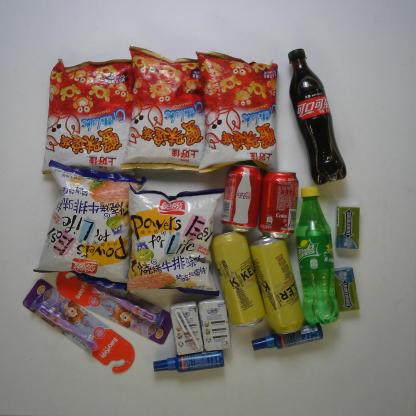Alcohol: (250, 226, 305, 336), (211, 227, 265, 330)
Drink: (288, 47, 348, 185), (296, 183, 339, 326), (219, 162, 261, 231), (260, 166, 298, 240)
Gum: (332, 204, 361, 252), (332, 265, 359, 314)
Milk: (199, 297, 232, 352), (172, 300, 202, 357)
Personal Hygiene: (53, 264, 175, 346), (25, 280, 133, 369), (250, 324, 322, 352), (153, 352, 224, 375)
Puffed Food: (37, 160, 143, 293), (124, 178, 222, 297), (122, 43, 209, 174), (196, 50, 282, 172), (43, 58, 128, 174)
